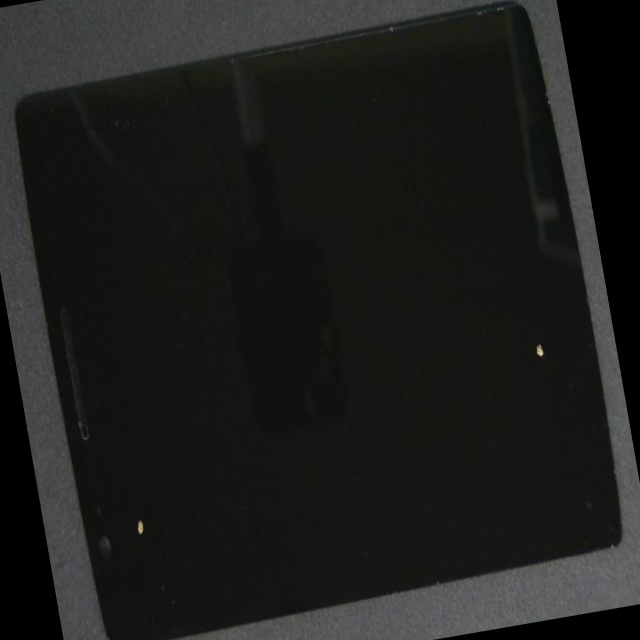stain: (241, 80, 640, 571), (54, 207, 198, 640)
